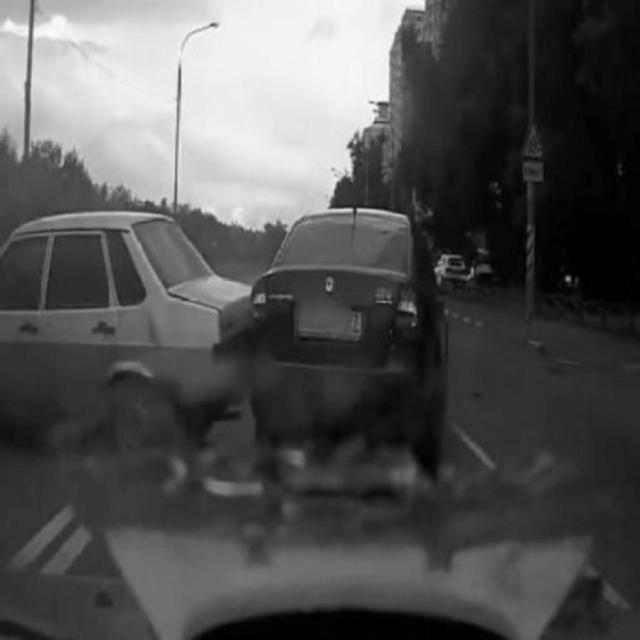accident: (10, 205, 448, 426)
